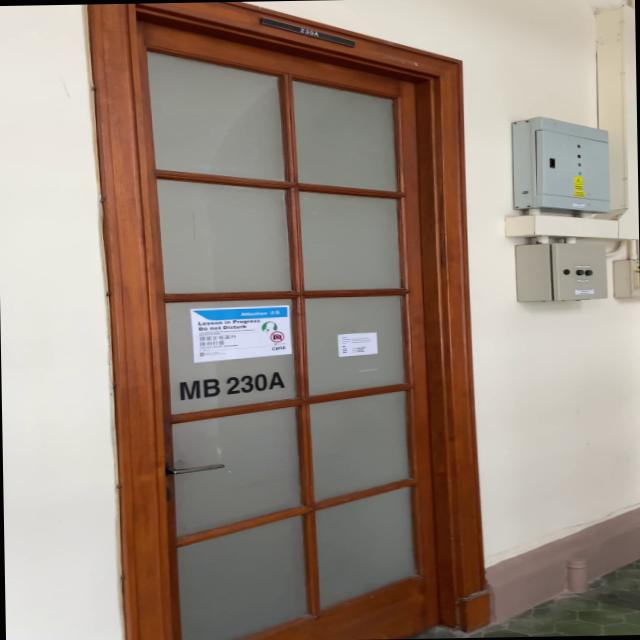room230A: (256, 13, 352, 47)
room230AWindow: (172, 368, 289, 402)
